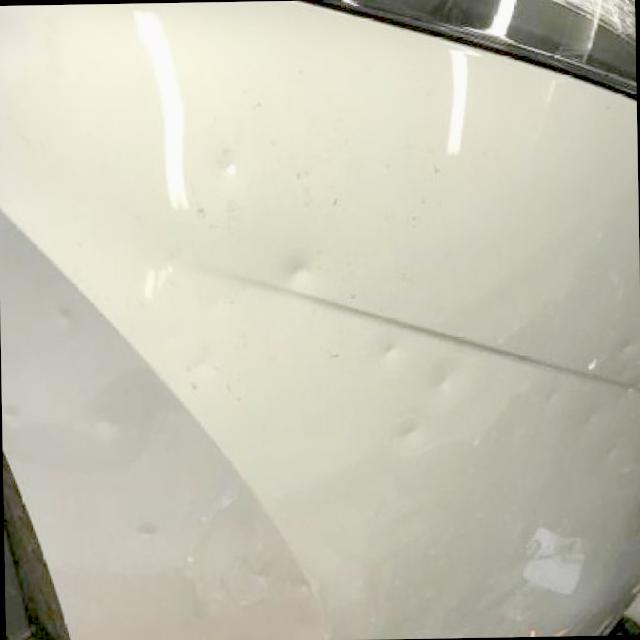dent: (284, 254, 310, 284), (94, 413, 121, 435), (217, 153, 238, 179), (430, 368, 450, 394), (395, 421, 416, 445), (615, 335, 632, 358), (136, 519, 155, 539), (56, 304, 76, 322), (380, 339, 397, 359), (585, 404, 599, 426), (627, 374, 640, 393), (603, 441, 616, 460)
